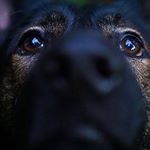puppy: (9, 1, 150, 149)
